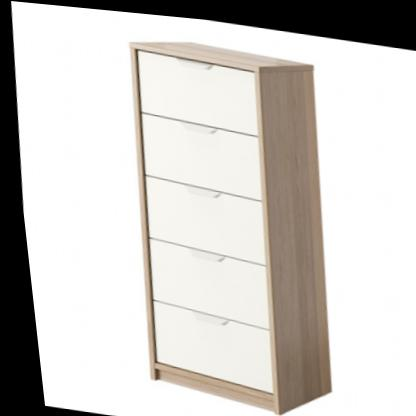Cabinet: (101, 22, 350, 416)
